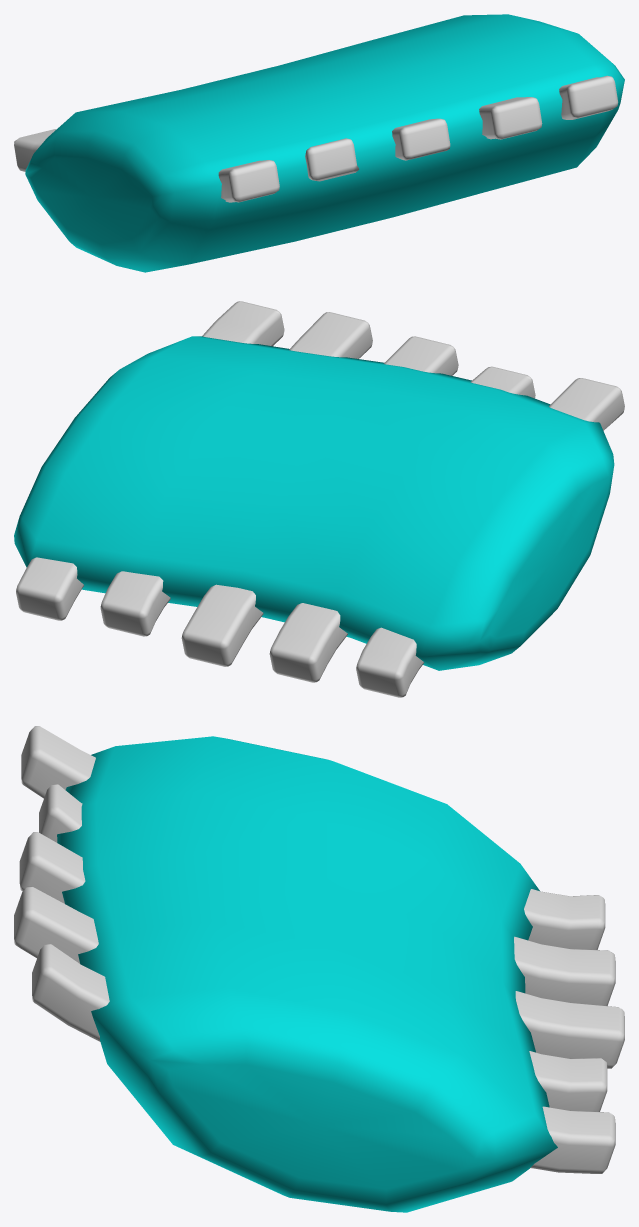
File: prp_Meat_C.fbx
The picture shows the model from 3 angles, top to bottom: view 1: azimuth 30°, elevation 25°; view 2: azimuth 150°, elevation 25°; view 3: azimuth 270°, elevation 25°; orthographic projection. The views are drawn at different scales.
Parts seen in each view (by area): view 1: prp_Meat_C; view 2: prp_Meat_C; view 3: prp_Meat_C.
Part boxes in pixels (x1,y1,x2,y2): prp_Meat_C: (14, 14, 624, 272); prp_Meat_C: (14, 301, 624, 697); prp_Meat_C: (14, 726, 624, 1212).
Size of the model in its own units: 0.3732 by 0.3243 by 0.141.
